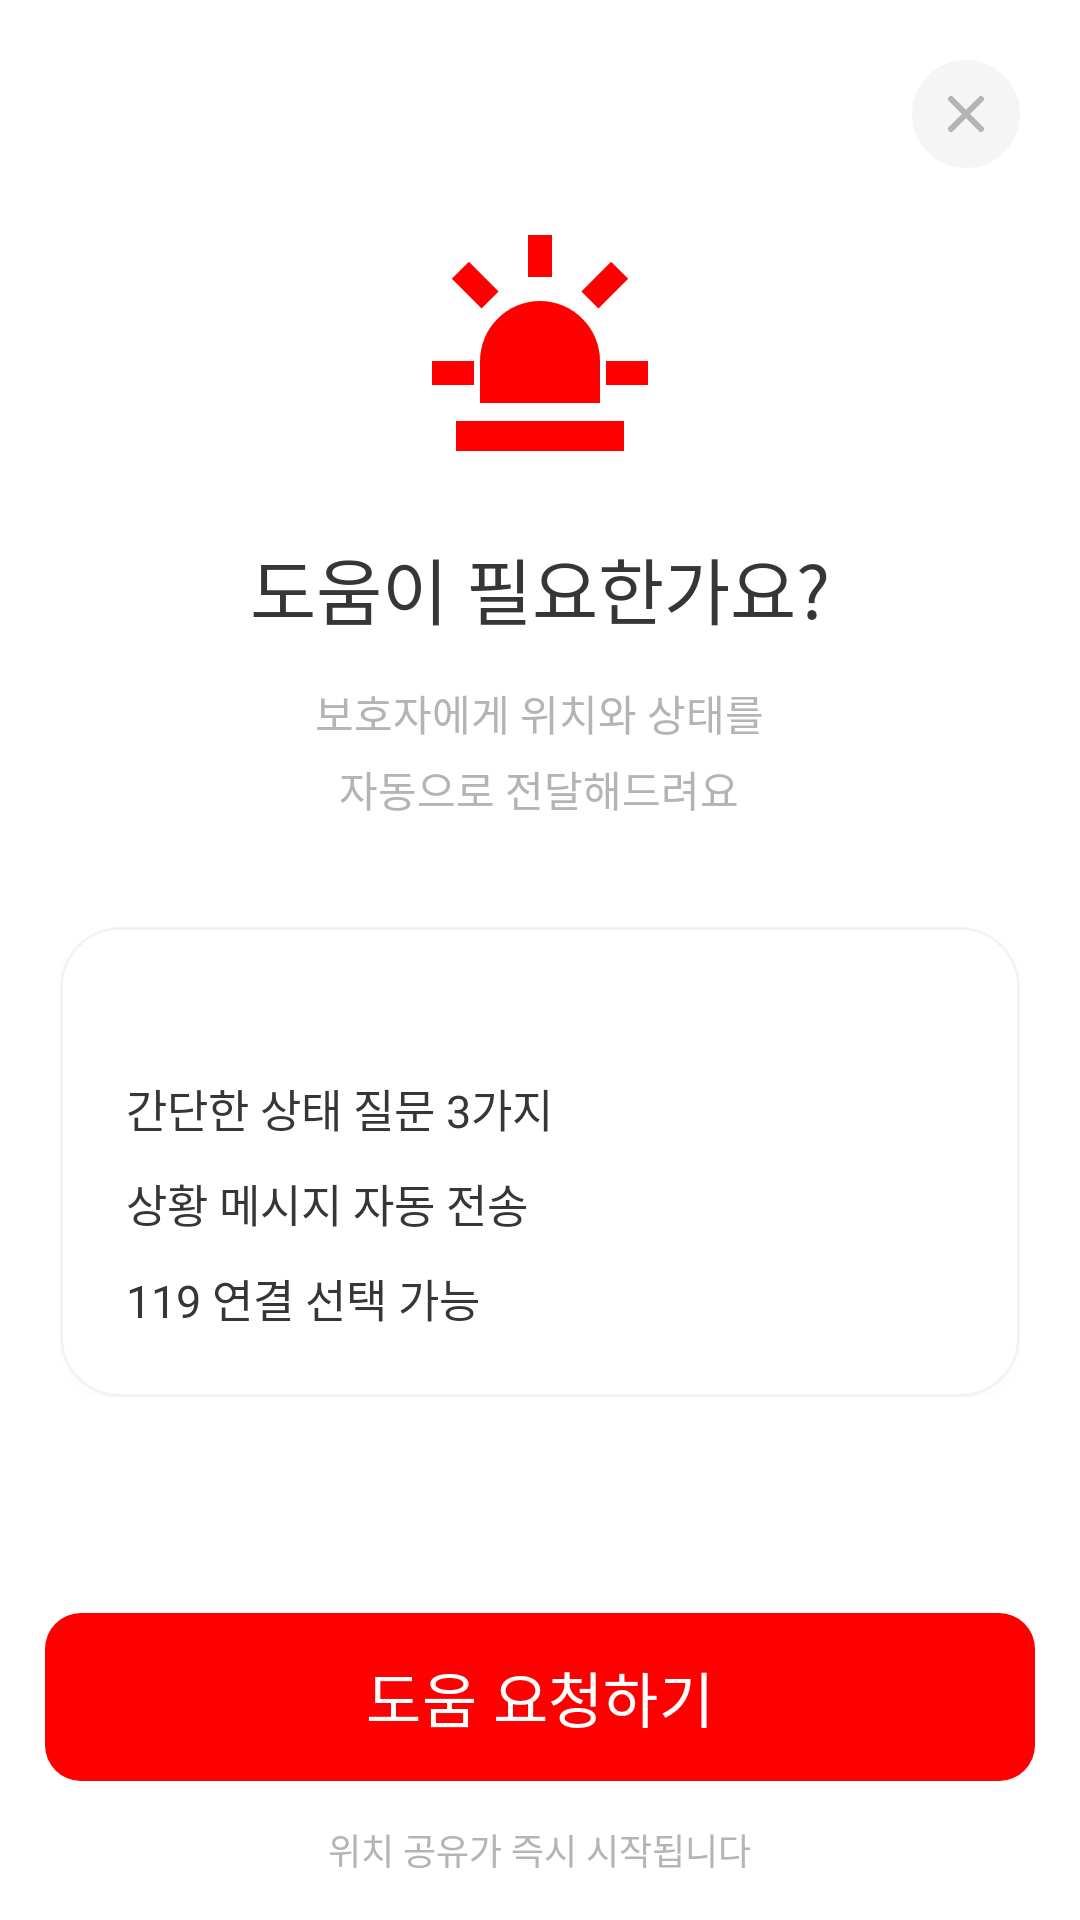

Screen size 1080×1920. Icon name, then its box in pixels as (x1,y1,x2,y2):
siren: (432,235,648,451)
닫기: (912,60,1020,168)
